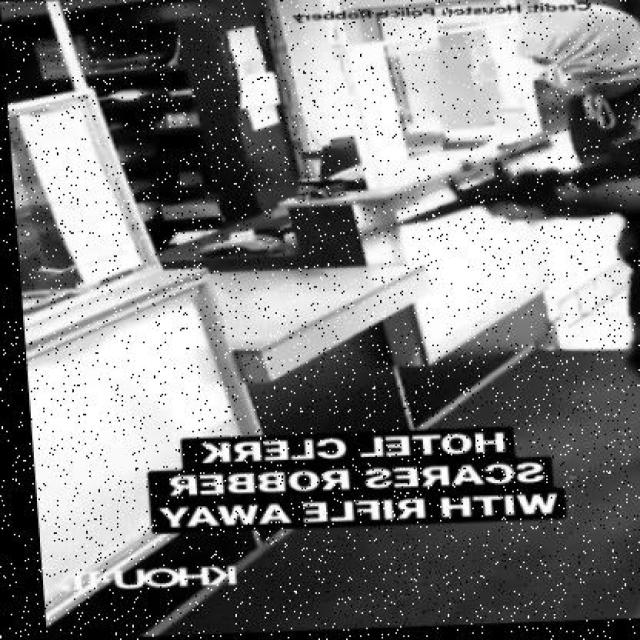weapon: (389, 131, 640, 230)
